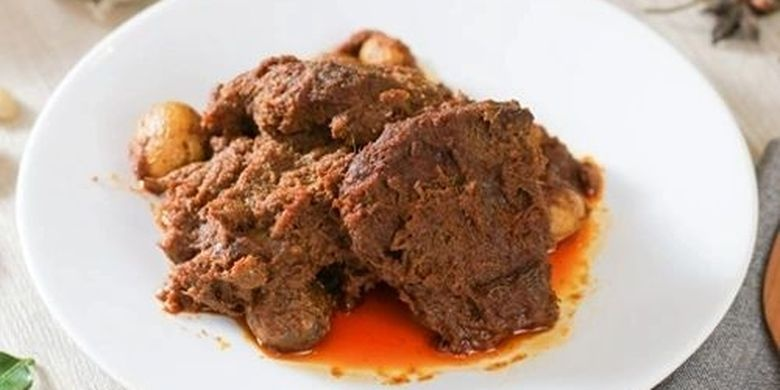Rendang: (130, 24, 596, 354)
